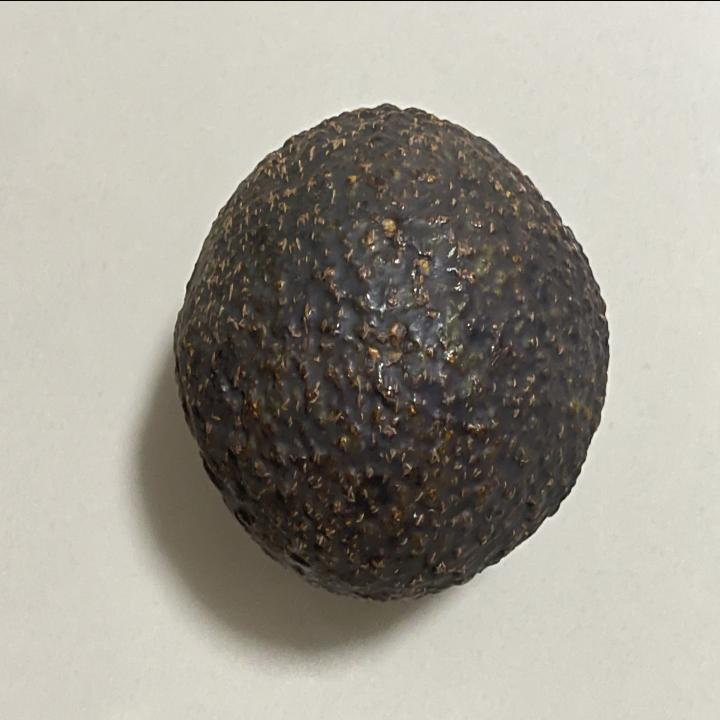Level2: (164, 92, 616, 610)
